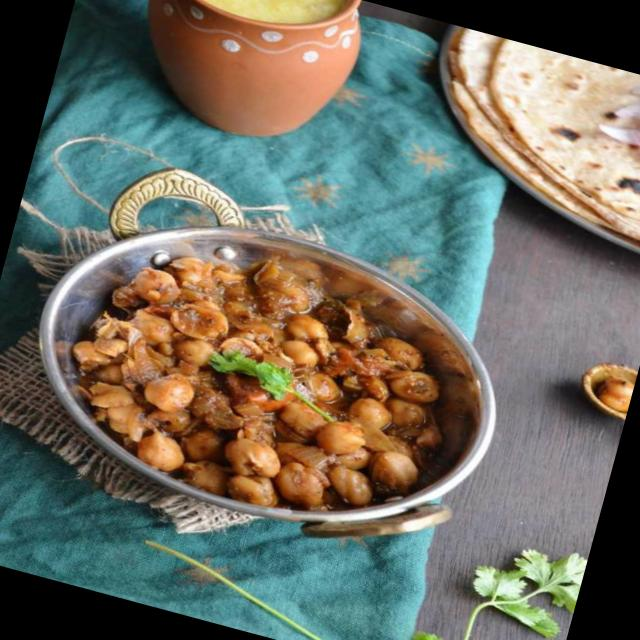Chole: (48, 214, 474, 546)
